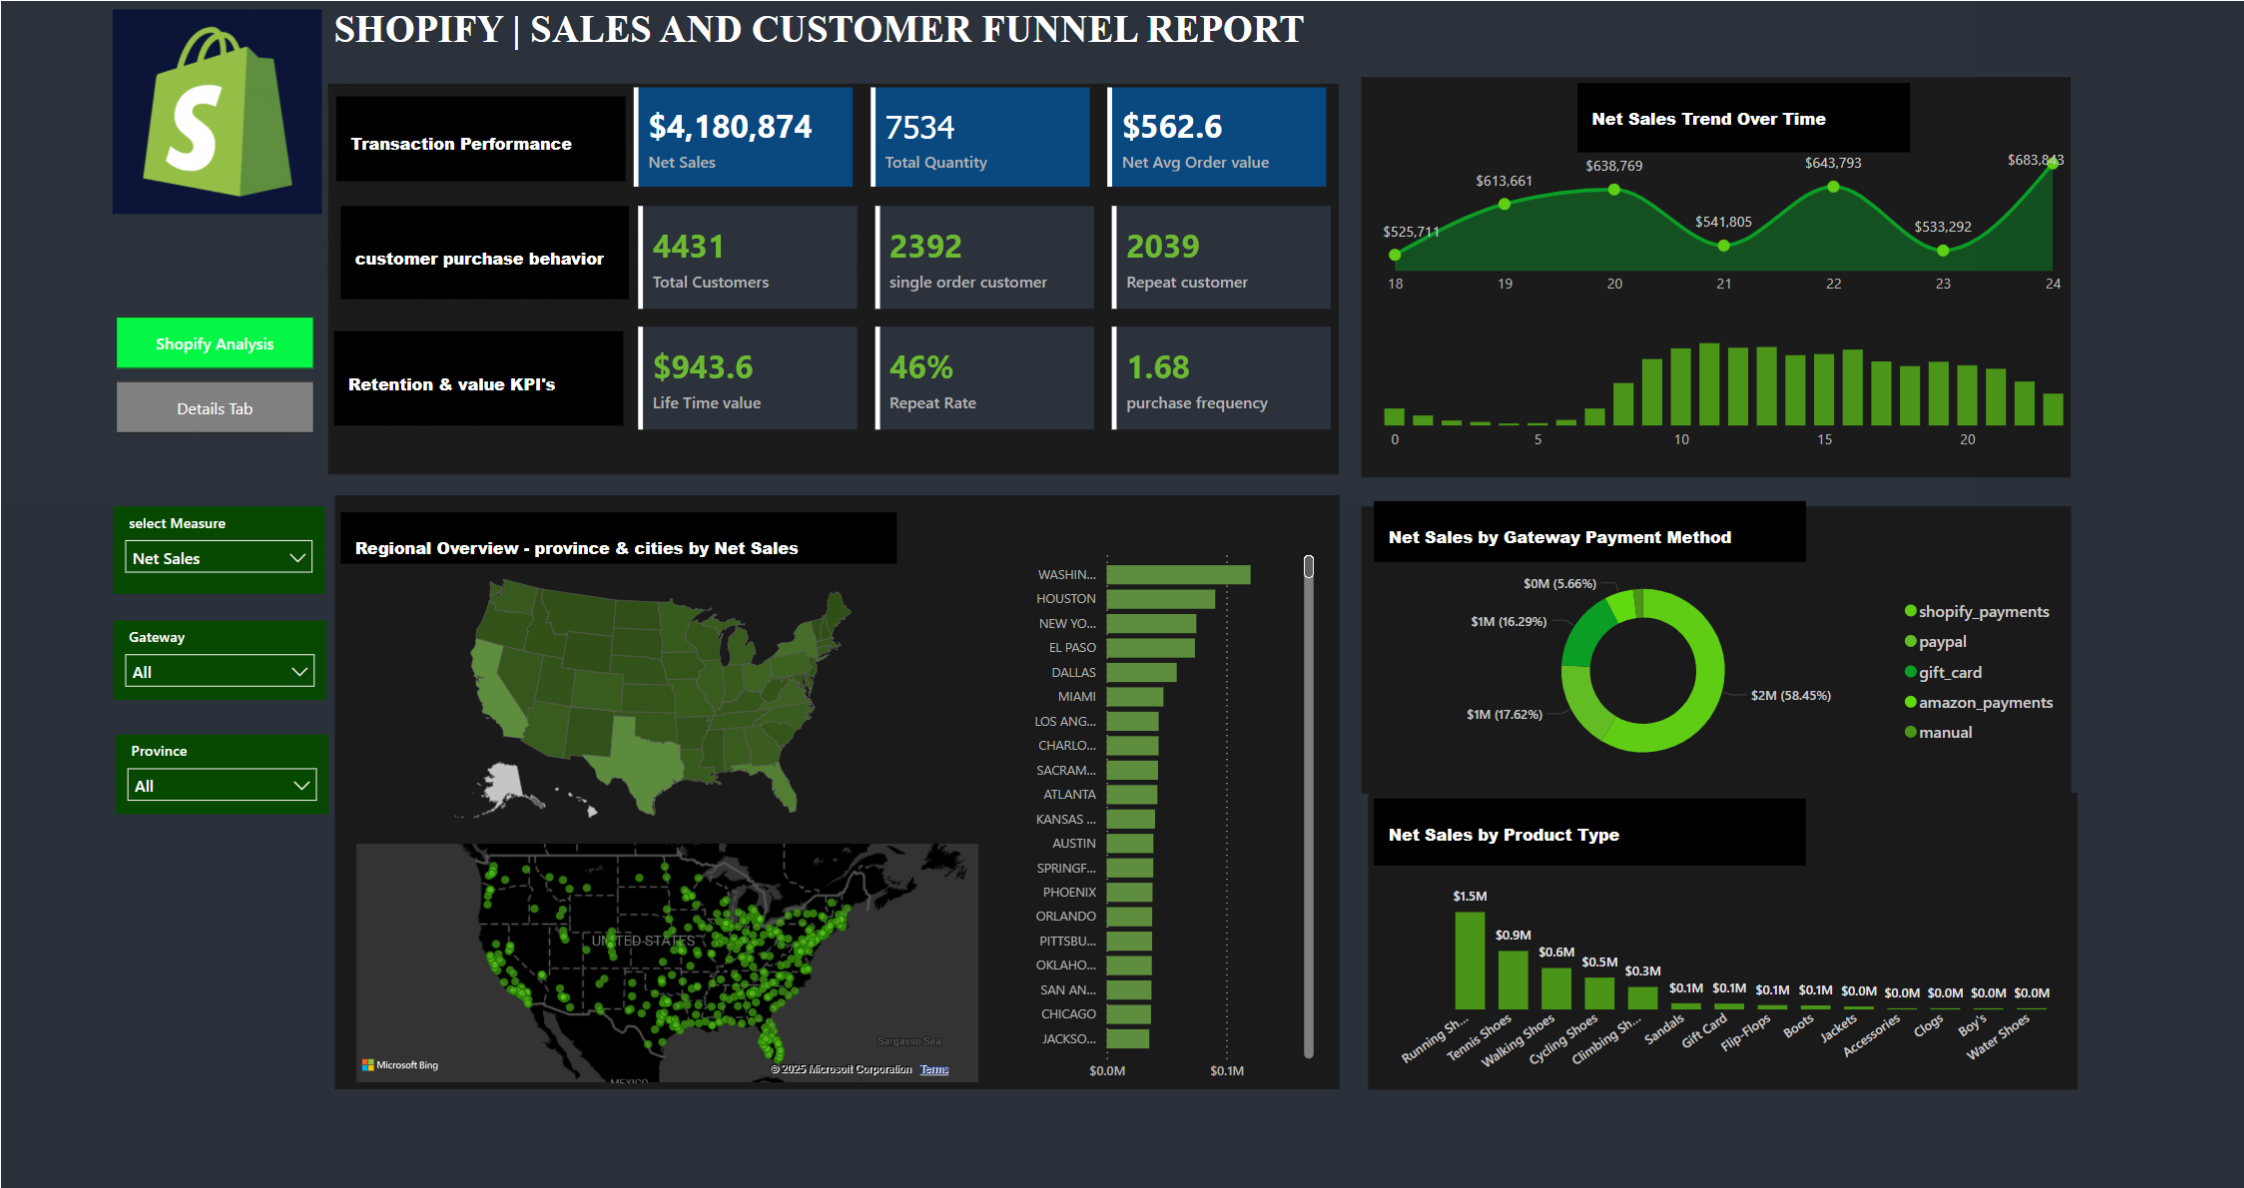

This screenshot's page, from the dashboard's own definition file:
{"tool":"powerbi","page":{"name":"Shopify Analysis","canvas":[1700,1000],"ordinal":0},"visuals":[{"type":"shape","box":[14.9,0,170,999.1],"z":0},{"type":"textbox","box":[184.6,0,828,67.7],"z":1000},{"type":"shape","box":[185,68.3,845,326.7],"z":2000},{"type":"cardVisual","fields":{"Data":["shopify_sales.Net Sales","shopify_sales.Total Quantity","shopify_sales.Net Avg Order value"]},"box":[435.2,67.7,590.9,93.1],"z":3000},{"type":"cardVisual","fields":{"Data":["shopify_sales.Transaction Perf"]},"box":[186.2,74.5,252.3,81.3],"z":4000},{"type":"cardVisual","fields":{"Data":["shopify_sales.Total Customers","shopify_sales.single order customer","shopify_sales.Repeat customer"]},"box":[440.2,165.9,589.2,96.5],"z":5000},{"type":"cardVisual","fields":{"Data":["shopify_sales.customer Purchase Behavior"]},"box":[190,166.7,251.7,88.3],"z":6000},{"type":"cardVisual","fields":{"Data":["shopify_sales.Life Time value","shopify_sales.Repeat Rate","shopify_sales.purchase frequency"]},"box":[438.6,267.5,590.9,96.5],"z":7000},{"type":"cardVisual","fields":{"Data":["shopify_sales.Retention & value KPI's"]},"box":[184.6,270.9,252.3,89.7],"z":8000},{"type":"shape","box":[190,413.3,840,496.7],"z":9000},{"type":"shapeMap","fields":{"Value":["shopify_sales.Net Sales"],"Category":["shopify_sales.Billing Address Province"]},"box":[186.7,468.3,540,231.7],"z":10000},{"type":"slicer","fields":{"Values":["select Measure.select Measure"]},"box":[5,421.7,176.7,73.3],"z":11000},{"type":"map","fields":{"Category":["shopify_sales.location"]},"box":[203.3,700,530,210],"z":12000},{"type":"clusteredBarChart","fields":{"Y":["shopify_sales.Net Sales"],"Category":["shopify_sales.CITY"]},"box":[758.3,450,255,461.7],"z":13000},{"type":"cardVisual","fields":{"Data":["shopify_sales.Map Title"]},"box":[190,421.7,475,53.3],"z":14000},{"type":"shape","box":[1048.3,63.3,593.3,335],"z":15000},{"type":"areaChart","fields":{"Y":["shopify_sales.Net Sales"],"Category":["shopify_sales.Invoice Date.Variation.Date Hierarchy.Day"]},"box":[1061.7,113.3,580,141.7],"z":16000},{"type":"columnChart","fields":{"Y":["shopify_sales.Net Sales"],"Category":["shopify_sales.Hour"]},"box":[1061.7,255,580,131.7],"z":17000},{"type":"cardVisual","fields":{"Data":["shopify_sales.Trend Title"]},"box":[1225,63.3,288.3,68.3],"z":18000},{"type":"shape","box":[1048.3,421.7,593.3,240],"z":19000},{"type":"donutChart","fields":{"Y":["shopify_sales.Net Sales"],"Category":["shopify_sales.Gateway"]},"box":[1061.7,468.3,580,185],"z":20000},{"type":"cardVisual","fields":{"Data":["shopify_sales.Gateway Title"]},"box":[1055,413.3,371.7,61.7],"z":21000},{"type":"shape","box":[1055,661.7,593.3,248.3],"z":22000},{"type":"columnChart","fields":{"Y":["shopify_sales.Net Sales"],"Category":["shopify_sales.Product Type"]},"box":[1075,728.3,566.7,175],"z":23000},{"type":"cardVisual","fields":{"Data":["shopify_sales.Product Title"]},"box":[1055,661.7,371.7,66.7],"z":24000},{"type":"image","box":[0,0,185,185],"z":25000},{"type":"slicer","fields":{"Values":["shopify_sales.Gateway"]},"box":[5,518.3,178.3,66.7],"z":26000},{"type":"slicer","fields":{"Values":["shopify_sales.Billing Address Province"]},"box":[8.3,613.3,178.3,66.7],"z":27000},{"type":"pageNavigator","box":[8.3,263.3,166.7,98.3],"z":31001}]}

Visuals, with their boxes on the page's 1700x1000 design canvas (x1, y1, x2, y2). These are canvas units, not pixel positions in the 2244x1188 screenshot, which may show the page scaled, cropped or inside an application window:
shape: region(15, 0, 185, 999)
textbox: region(185, 0, 1013, 68)
shape: region(185, 68, 1030, 395)
cardVisual - shopify_sales.Net Sales x shopify_sales.Total Quantity: region(435, 68, 1026, 161)
cardVisual - shopify_sales.Transaction Perf: region(186, 74, 438, 156)
cardVisual - shopify_sales.Total Customers x shopify_sales.single order customer: region(440, 166, 1029, 262)
cardVisual - shopify_sales.customer Purchase Behavior: region(190, 167, 442, 255)
cardVisual - shopify_sales.Life Time value x shopify_sales.Repeat Rate: region(439, 268, 1030, 364)
cardVisual - shopify_sales.Retention & value KPI's: region(185, 271, 437, 361)
shape: region(190, 413, 1030, 910)
shapeMap - shopify_sales.Net Sales x shopify_sales.Billing Address Province: region(187, 468, 727, 700)
slicer - select Measure.select Measure: region(5, 422, 182, 495)
map - shopify_sales.location: region(203, 700, 733, 910)
clusteredBarChart - shopify_sales.Net Sales x shopify_sales.CITY: region(758, 450, 1013, 912)
cardVisual - shopify_sales.Map Title: region(190, 422, 665, 475)
shape: region(1048, 63, 1642, 398)
areaChart - shopify_sales.Net Sales x shopify_sales.Invoice Date.Variation.Date Hierarchy.Day: region(1062, 113, 1642, 255)
columnChart - shopify_sales.Net Sales x shopify_sales.Hour: region(1062, 255, 1642, 387)
cardVisual - shopify_sales.Trend Title: region(1225, 63, 1513, 132)
shape: region(1048, 422, 1642, 662)
donutChart - shopify_sales.Net Sales x shopify_sales.Gateway: region(1062, 468, 1642, 653)
cardVisual - shopify_sales.Gateway Title: region(1055, 413, 1427, 475)
shape: region(1055, 662, 1648, 910)
columnChart - shopify_sales.Net Sales x shopify_sales.Product Type: region(1075, 728, 1642, 903)
cardVisual - shopify_sales.Product Title: region(1055, 662, 1427, 728)
image: region(0, 0, 185, 185)
slicer - shopify_sales.Gateway: region(5, 518, 183, 585)
slicer - shopify_sales.Billing Address Province: region(8, 613, 187, 680)
pageNavigator: region(8, 263, 175, 362)
